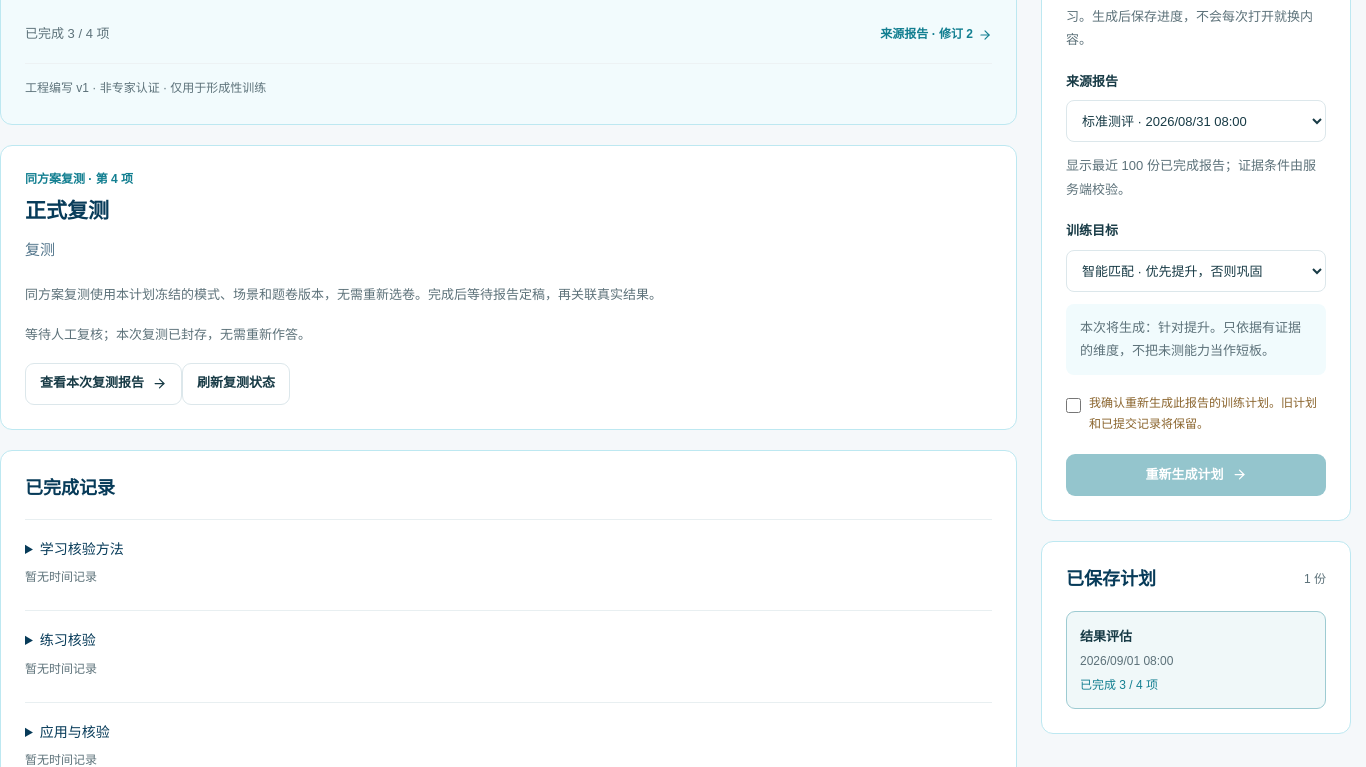
Test: TrainingView › refreshes a waiting retest and links it only after the final report is confirmed
(page scrolled)
Click the button with test id "refresh-retest": (236, 384) [182,363,290,405]
(page scrolled)
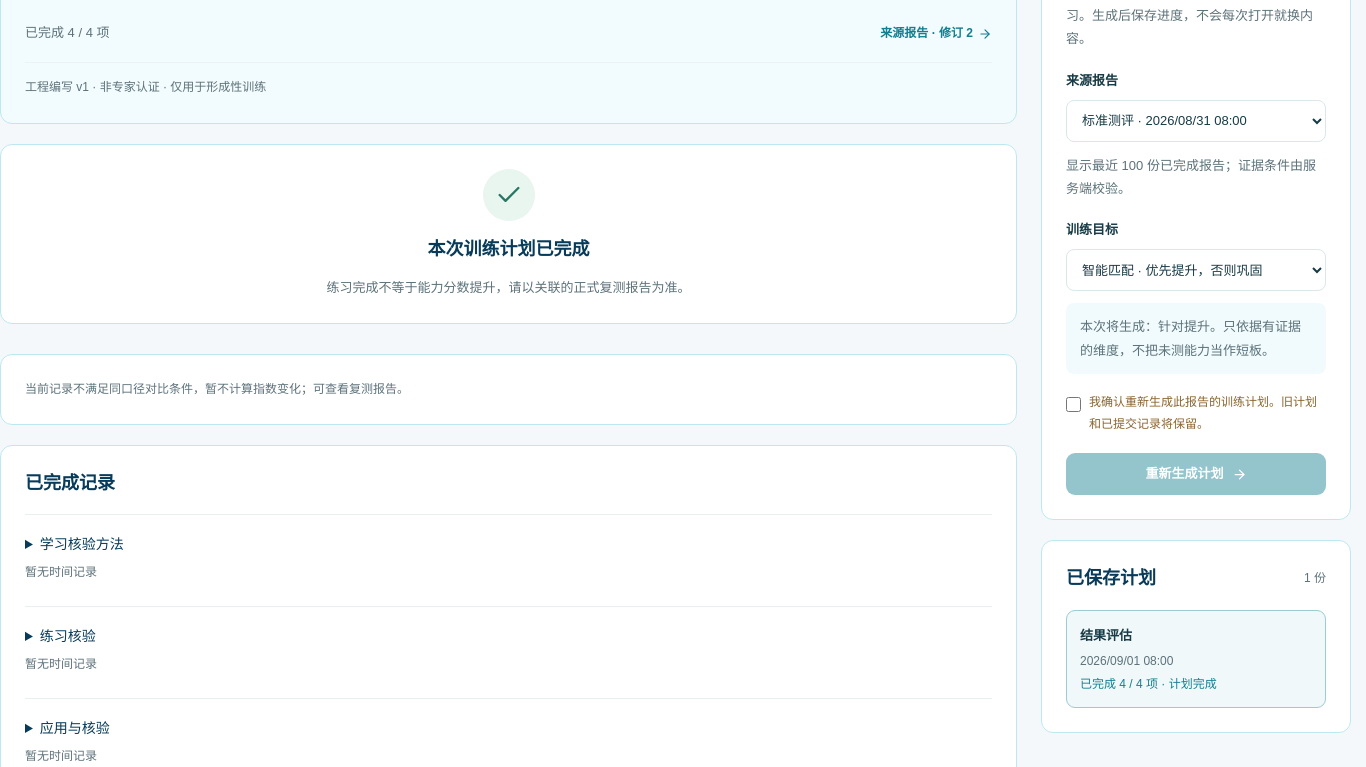
Expected: the text "本次训练计划已完成" is shown, [428,236,590,263]
